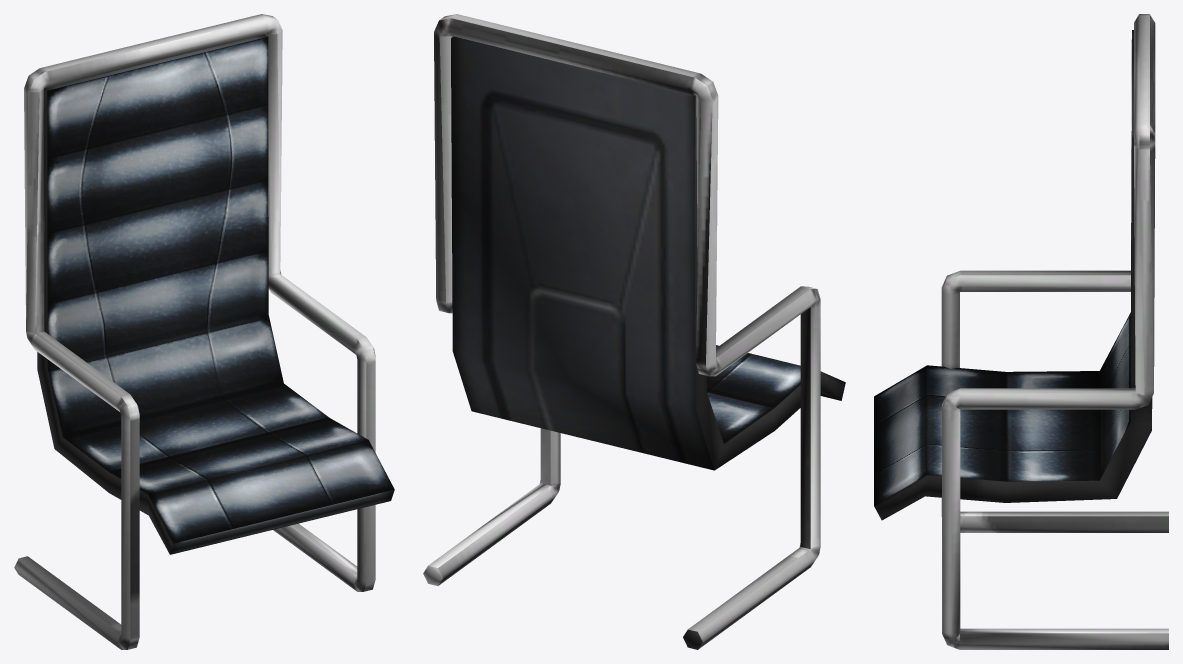
The model's file is CHAIR01.glb.
3 renders of one model, left to right at view 1: azimuth 30°, elevation 25°; view 2: azimuth 150°, elevation 25°; view 3: azimuth 270°, elevation 25°, orthographic. The views are drawn at different scales.
Parts seen in each view (by area): view 1: chair02; view 2: chair02; view 3: chair02.
Boxes of the visible parts, x1=… form: chair02: x1=14, y1=14, x2=394, y2=649; chair02: x1=423, y1=14, x2=845, y2=649; chair02: x1=874, y1=14, x2=1168, y2=649.
Size of the model in its own units: 38.73 by 74.31 by 38.21.
Materials: 1 (1 with a texture image).
